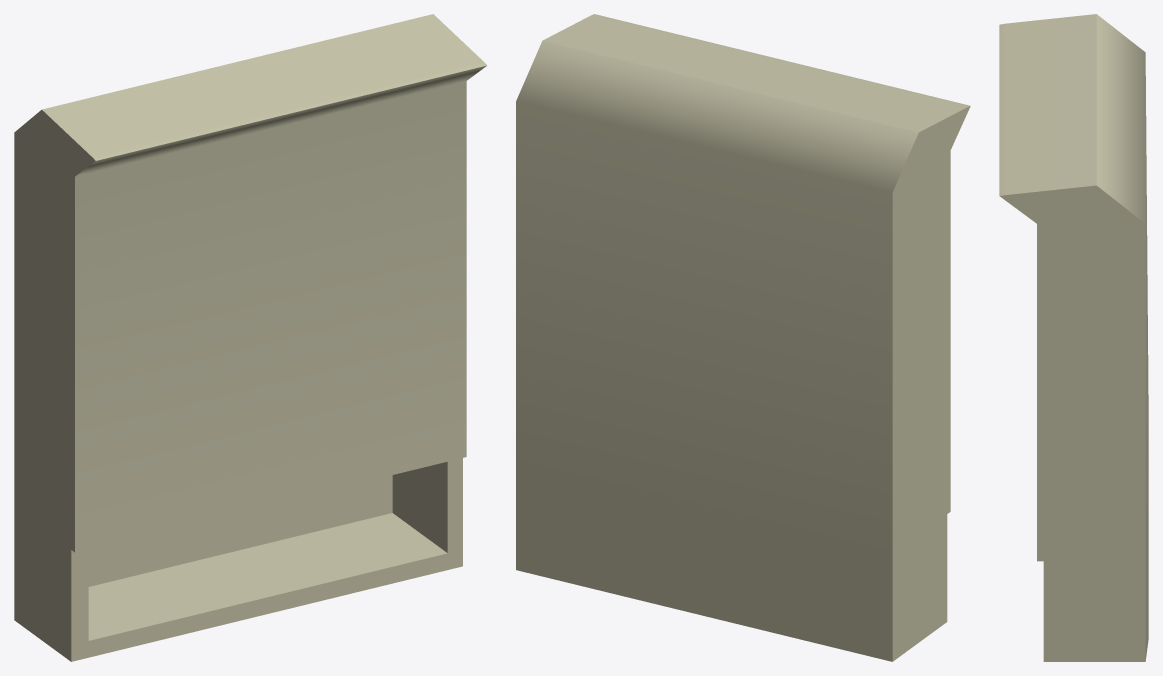
Rendered from m_duck_medicineCabinet_high_r.fbx.
The picture shows the model from 3 angles, left to right: view 1: azimuth 30°, elevation 25°; view 2: azimuth 150°, elevation 25°; view 3: azimuth 270°, elevation 25°; orthographic projection. The views are drawn at different scales.
Visible parts, largest first — view 1: medicineCabinet:pCube1; view 2: medicineCabinet:pCube1; view 3: medicineCabinet:pCube1.
Part boxes in pixels (x1,y1,x2,y2): medicineCabinet:pCube1: (14,14,487,661); medicineCabinet:pCube1: (516,14,970,661); medicineCabinet:pCube1: (999,14,1148,661).
Size of the model in its own units: 8.92 by 11.56 by 3.28.
